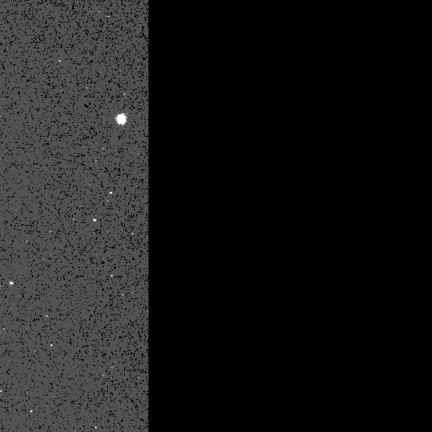blob: (9, 281, 13, 285), (93, 219, 98, 222), (110, 192, 113, 195)
